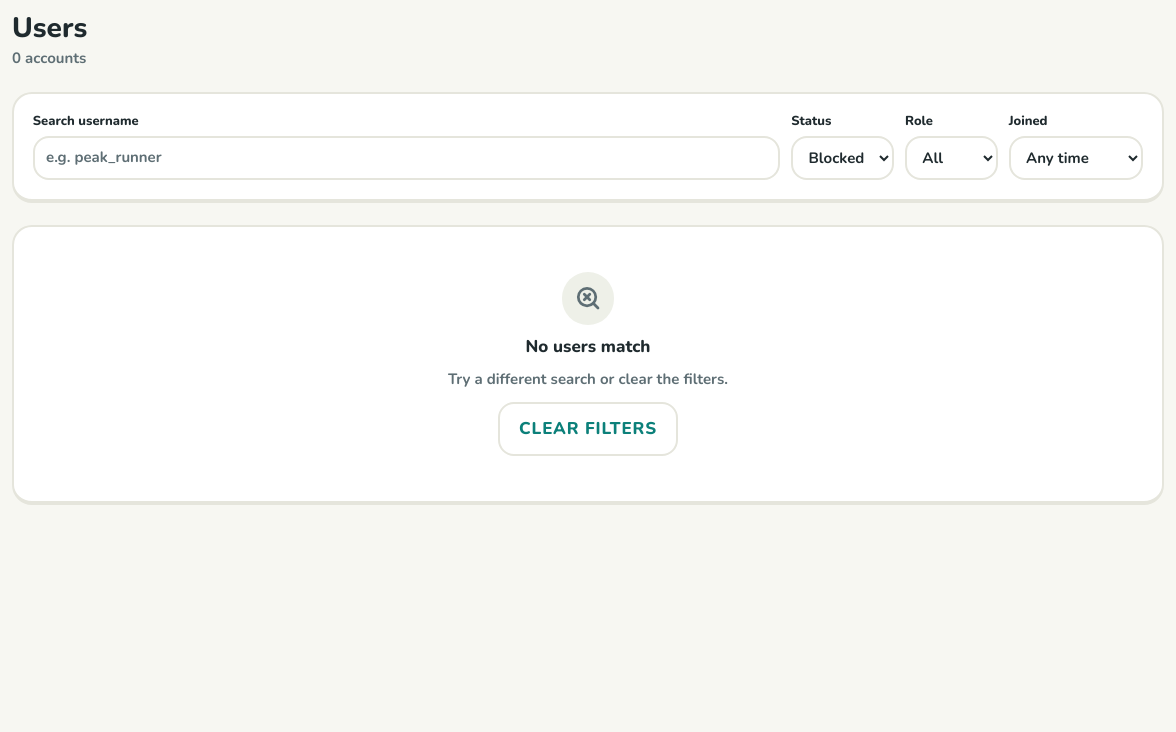
Test case: AC14 · users table › tells filtered-empty apart from no data and clears the filters
Expected: the text "No users match" is shown, [526,336,650,357]
Click the button with test id "admin.users-clear-filters". click: (588, 429)
box: [498,402,678,456]
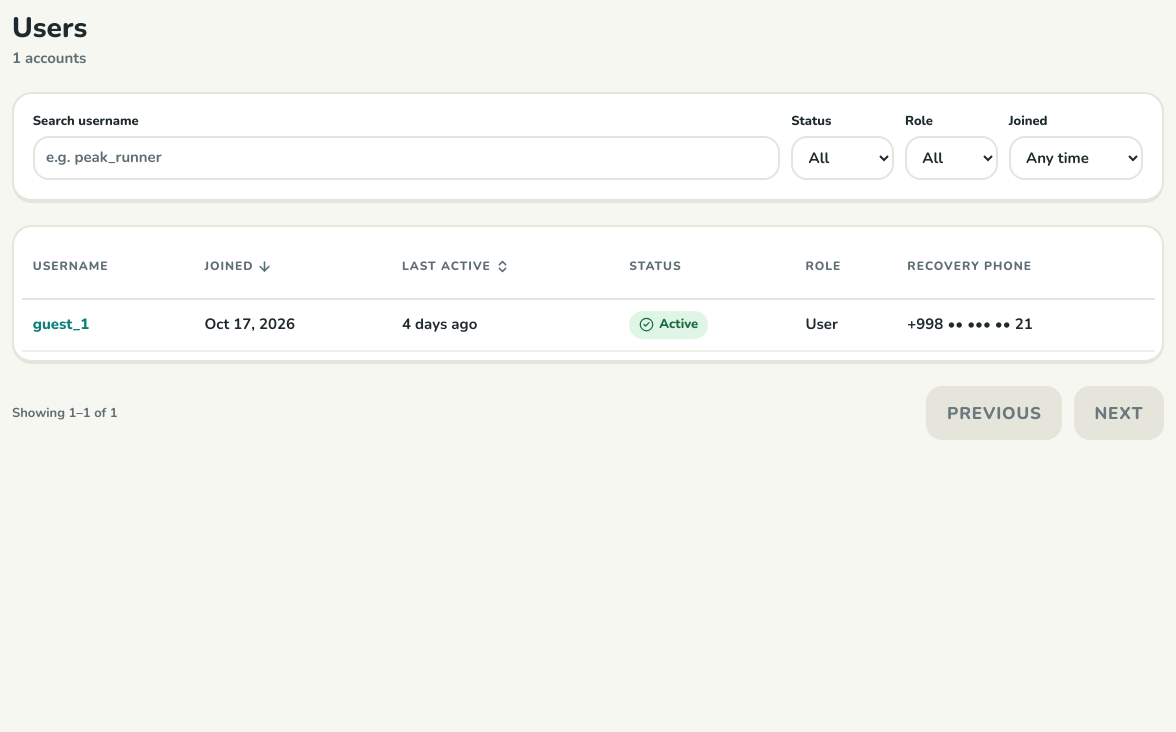
Result: the message "Showing 1–1 of 1" is shown at [12,405,118,422]
